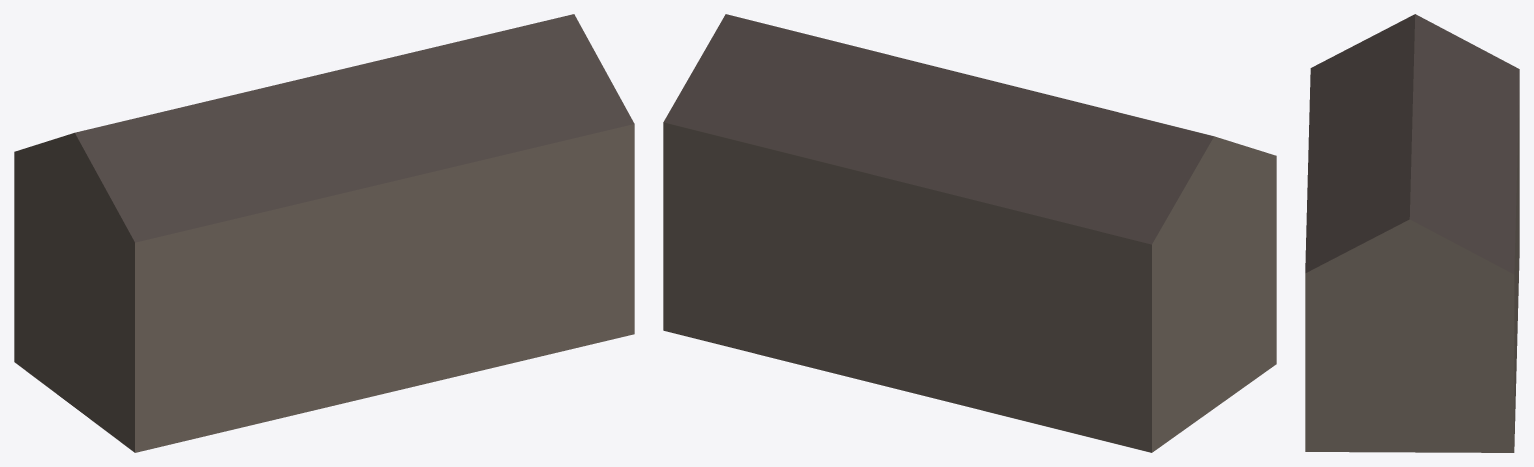
3 views of the same model, side by side, from view 1: azimuth 30°, elevation 25°; view 2: azimuth 150°, elevation 25°; view 3: azimuth 270°, elevation 25° (orthographic). The views are drawn at different scales.
Visible parts, largest first — view 1: HP-w1376988831; view 2: HP-w1376988831; view 3: HP-w1376988831.
Boxes of the visible parts, <box> form: HP-w1376988831: <box>14,14,634,452</box>; HP-w1376988831: <box>663,14,1276,452</box>; HP-w1376988831: <box>1305,14,1519,452</box>.
Size of the model in its own units: 14.89 by 7.84 by 6.54.
